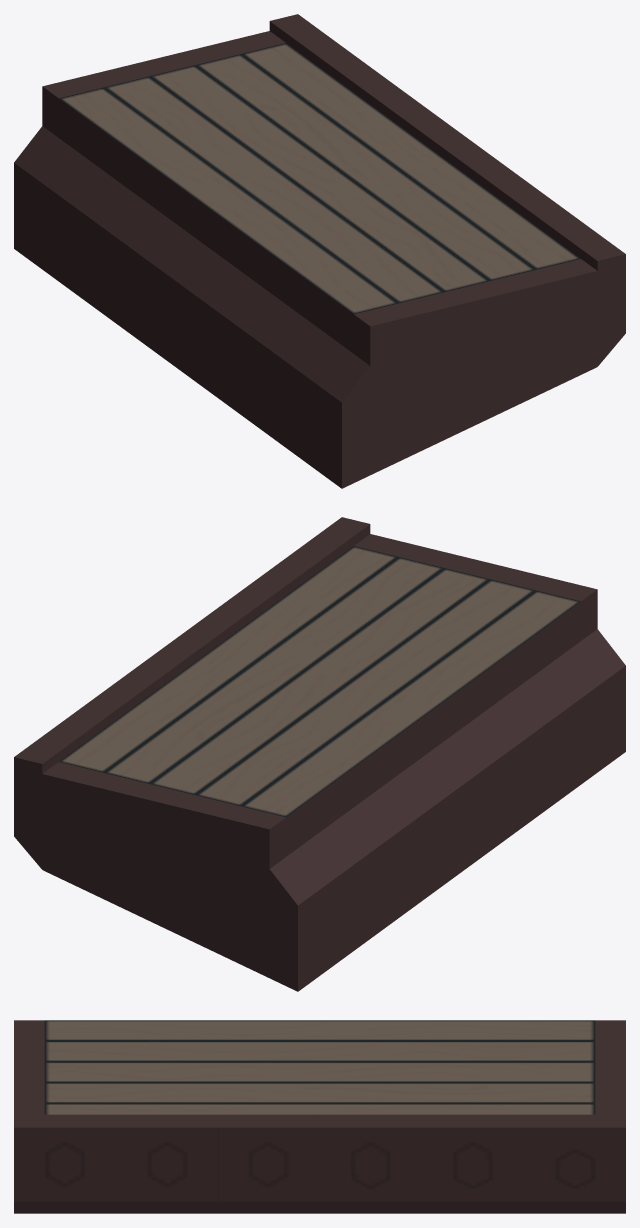
Rendered from SW_ENV_EL_TrackBase_Walkway_Side_3m.fbx.
3 renders of one model, top to bottom at view 1: azimuth 30°, elevation 25°; view 2: azimuth 150°, elevation 25°; view 3: azimuth 270°, elevation 25°, orthographic. The views are drawn at different scales.
Parts seen in each view (by area): view 1: SW_ENV_EL_TrackBase_Walkway_Side_3m; view 2: SW_ENV_EL_TrackBase_Walkway_Side_3m; view 3: SW_ENV_EL_TrackBase_Walkway_Side_3m.
Part boxes in pixels (x1,y1,x2,y2): SW_ENV_EL_TrackBase_Walkway_Side_3m: [14, 14, 625, 488]; SW_ENV_EL_TrackBase_Walkway_Side_3m: [14, 517, 625, 991]; SW_ENV_EL_TrackBase_Walkway_Side_3m: [14, 1020, 625, 1213].
Bounding box in the file's own units: 150 × 83.5 × 300.
